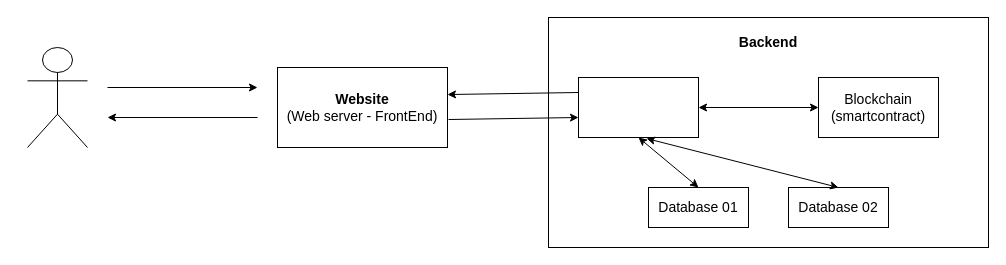
Image size: 1006x265. Some labels were removed from this diagram. Here are the shapes that lost their labels. From the top down, the centre of each, then its label:
(x=57, y=97): Người sử dụng
(x=638, y=107): API Controller
